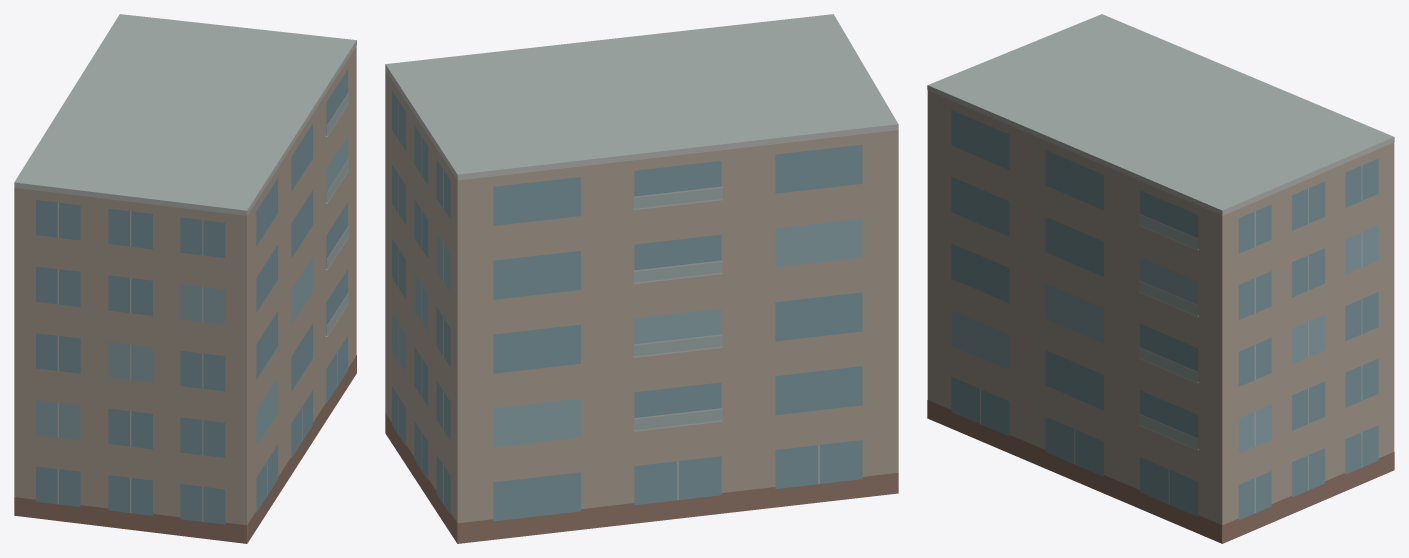
Rendered from survey-upis-32994403.glb.
3 renders of one model, left to right at view 1: azimuth 30°, elevation 25°; view 2: azimuth 150°, elevation 25°; view 3: azimuth 270°, elevation 25°, orthographic. The views are drawn at different scales.
Parts seen in each view (by area): view 1: survey-upis-32994403.tmp; view 2: survey-upis-32994403.tmp; view 3: survey-upis-32994403.tmp.
Boxes of the visible parts, x1,y1,x2,y2 form: survey-upis-32994403.tmp: (14,14,356,543); survey-upis-32994403.tmp: (385,14,898,543); survey-upis-32994403.tmp: (927,14,1394,543).
Size of the model in its own units: 19.36 by 15.3 by 19.43.
